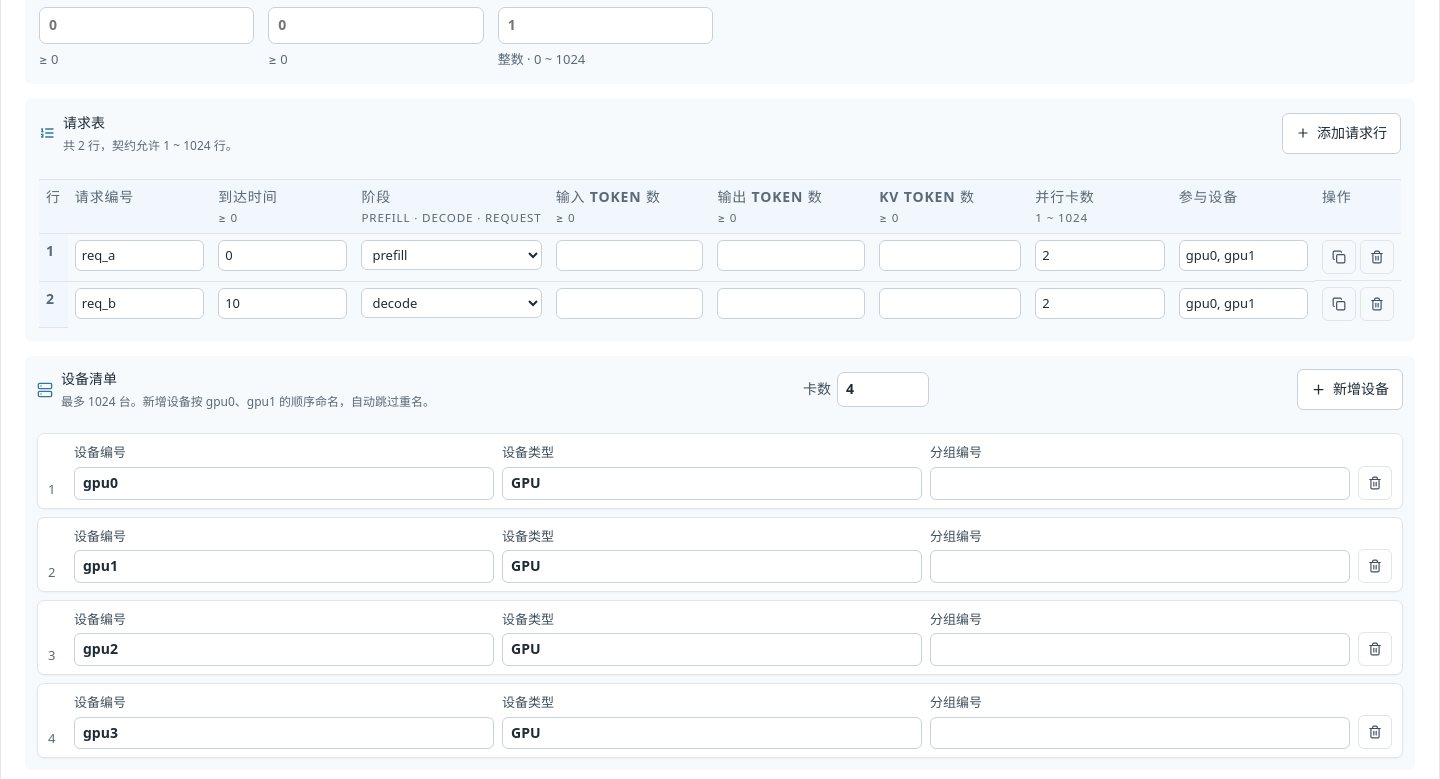
it: structured input panel › asks how to treat requests when the device count changes
(page scrolled)
Replace the text in the number field labelled "卡数" with "8" at (883, 390), box [837, 372, 929, 407]
(page scrolled)
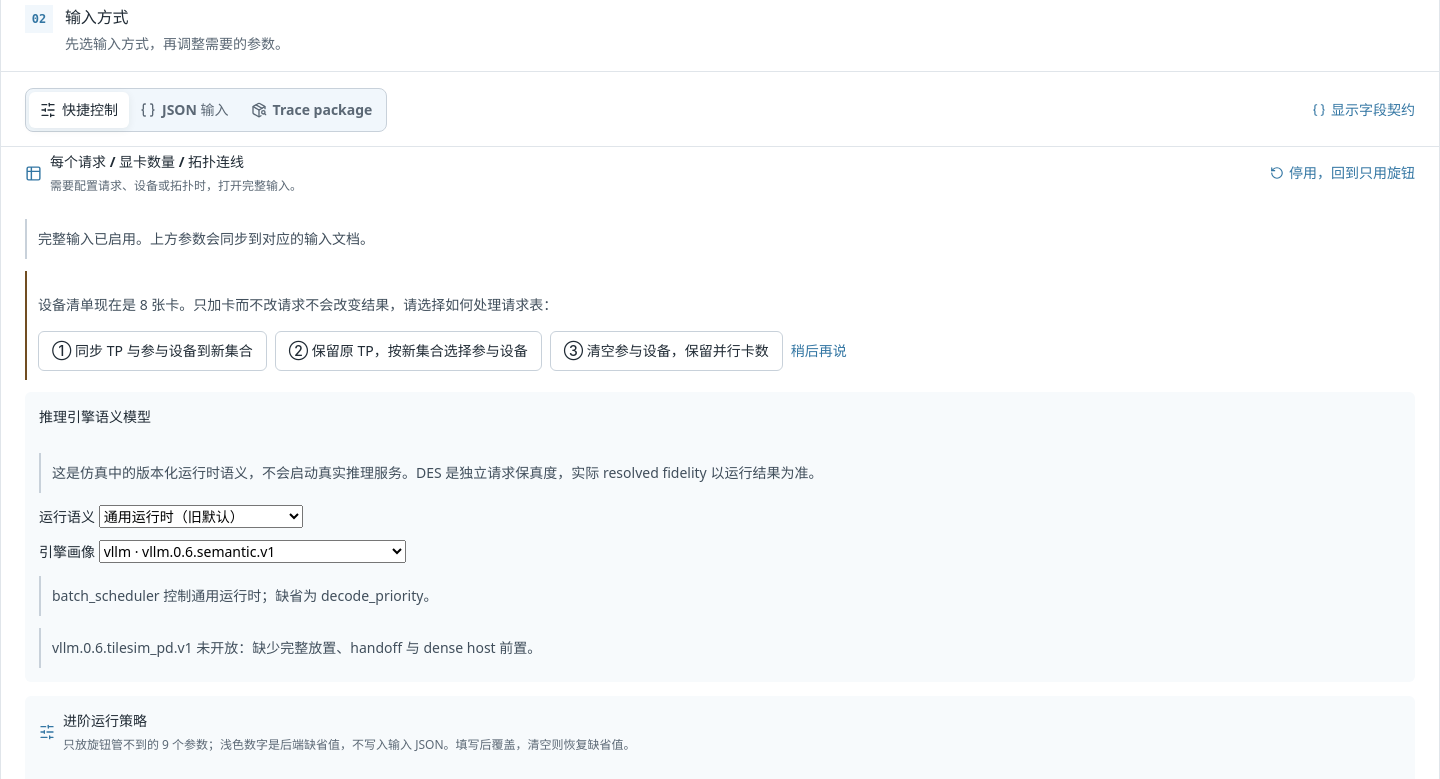
Expected: the message with class "structured-note--warning" shows "8 张卡", [38, 295, 557, 314]
Expected: the message with class "structured-note--warning" shows "同步 TP 与参与设备到新集合", [38, 331, 267, 371]
Expected: the message with class "structured-note--warning" shows "清空参与设备，保留并行卡数", [550, 331, 783, 371]
